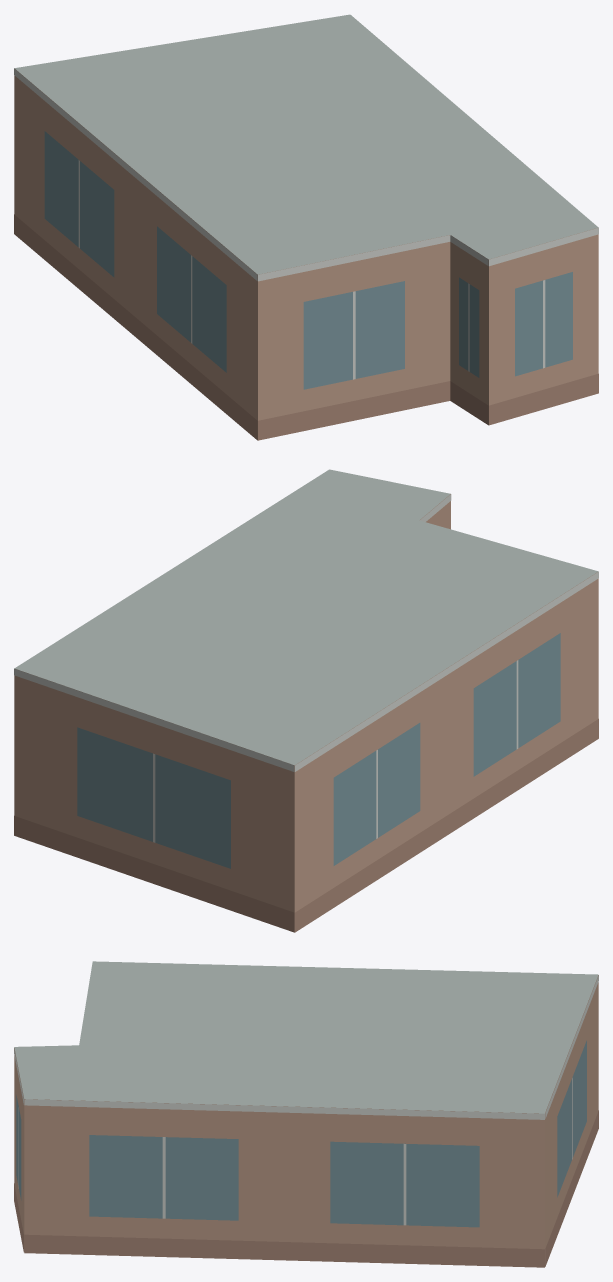
File: survey-upis-32639770.glb
The picture shows the model from 3 angles, top to bottom: view 1: azimuth 30°, elevation 25°; view 2: azimuth 150°, elevation 25°; view 3: azimuth 270°, elevation 25°; orthographic projection. The views are drawn at different scales.
Parts seen in each view (by area): view 1: survey-upis-32639770.tmp; view 2: survey-upis-32639770.tmp; view 3: survey-upis-32639770.tmp.
Boxes of the visible parts, x1,y1,x2,y2 form: survey-upis-32639770.tmp: (14, 14, 598, 440); survey-upis-32639770.tmp: (14, 469, 598, 932); survey-upis-32639770.tmp: (14, 961, 598, 1267).
Size of the model in its own units: 6.48 by 3.05 by 10.51.
